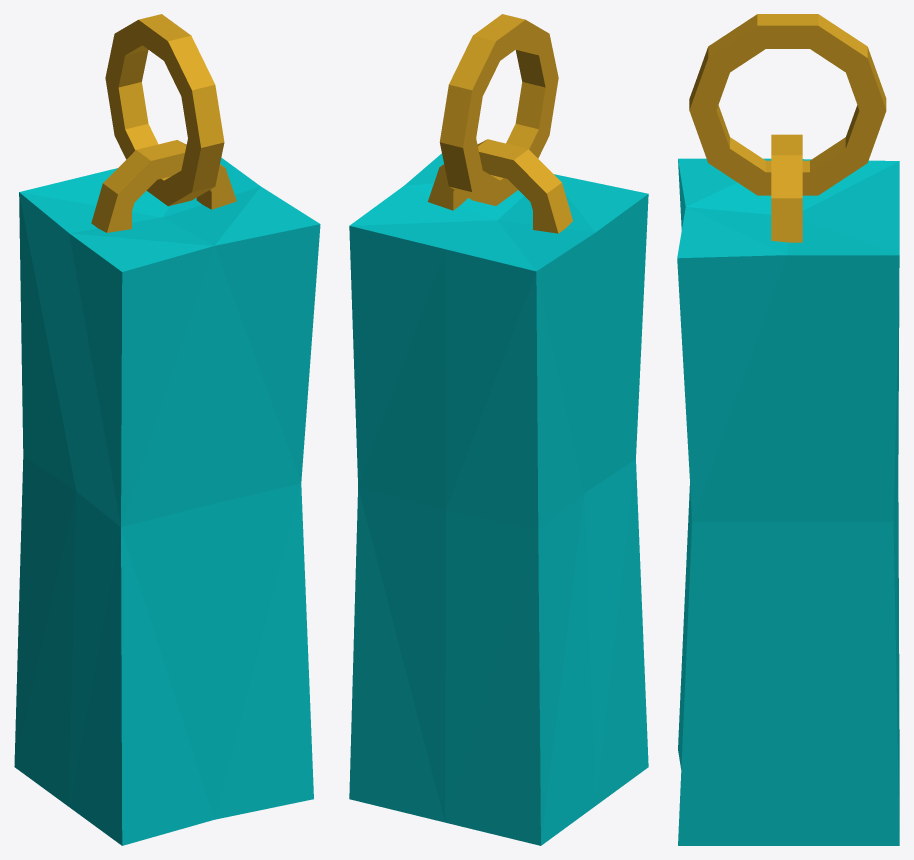
The model's file is Prop_Jungle_Temple_Hanging_Ornament_Gold_Gem_01.FBX.
3 views of the same model, side by side, from view 1: azimuth 30°, elevation 25°; view 2: azimuth 150°, elevation 25°; view 3: azimuth 270°, elevation 25° (orthographic). The views are drawn at different scales.
Parts seen in each view (by area): view 1: Prop_Jungle_Temple_Hanging_Ornament_Gold_Gem_01; view 2: Prop_Jungle_Temple_Hanging_Ornament_Gold_Gem_01; view 3: Prop_Jungle_Temple_Hanging_Ornament_Gold_Gem_01.
Part boxes in pixels (x1,y1,x2,y2): Prop_Jungle_Temple_Hanging_Ornament_Gold_Gem_01: (14,14,320,845); Prop_Jungle_Temple_Hanging_Ornament_Gold_Gem_01: (349,14,648,845); Prop_Jungle_Temple_Hanging_Ornament_Gold_Gem_01: (677,14,899,845).
Bounding box in the file's own units: 224 × 816 × 212.
